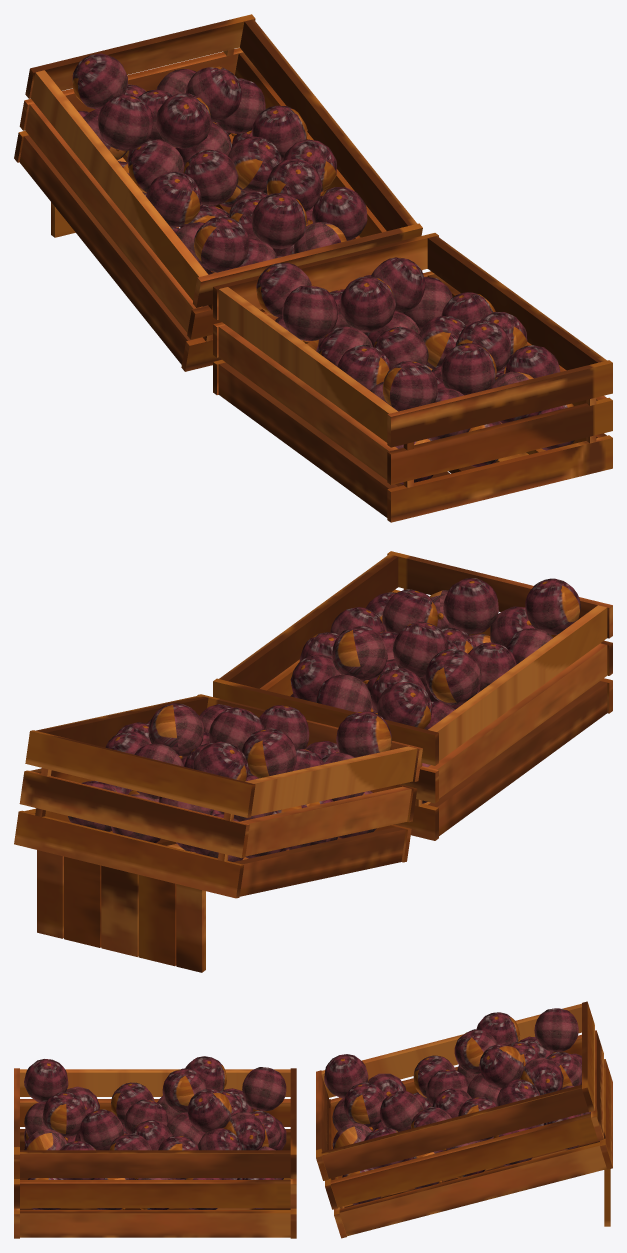
File: fruit crate_10.fbx
The picture shows the model from 3 angles, top to bottom: view 1: azimuth 30°, elevation 25°; view 2: azimuth 150°, elevation 25°; view 3: azimuth 270°, elevation 25°; orthographic projection. The views are drawn at different scales.
Parts seen in each view (by area): view 1: Cube.013, Cube.023, Plane.962, Plane.402, Plane.977, Plane.403, Plane.978, Plane.963, Plane.949, Plane.418, Plane.957, Plane.417 (+22 smaller); view 2: Cube.023, Cube.013, Cube.033, Plane.402, Plane.418, Plane.417, Plane.387, Plane.948, Plane.962, Plane.403, Plane.977, Plane.388 (+14 smaller); view 3: Cube.023, Cube.013, Plane.949, Plane.388, Plane.387, Plane.948, Plane.418, Plane.417, Plane.978, Plane.977, Plane.400, Plane.403 (+31 smaller).
Boxes of the visible parts, box(x1,y1,x2,y2) form: Cube.013: box(213, 233, 612, 522); Cube.023: box(14, 14, 422, 371); Plane.962: box(97, 94, 153, 151); Plane.402: box(282, 285, 337, 343); Plane.977: box(193, 216, 249, 272); Plane.403: box(340, 276, 395, 332); Plane.978: box(251, 193, 306, 249); Plane.963: box(156, 93, 211, 148); Plane.949: box(72, 53, 127, 108); Plane.418: box(441, 343, 496, 395); Plane.957: box(146, 171, 201, 227); Plane.417: box(382, 361, 438, 411); Cube.023: box(14, 694, 422, 898); Cube.013: box(213, 551, 612, 840); Cube.033: box(37, 850, 205, 972); Plane.402: box(425, 649, 481, 705); Plane.418: box(443, 578, 498, 634); Plane.417: box(525, 578, 580, 634); Plane.387: box(332, 626, 387, 683); Plane.948: box(148, 703, 203, 759); Plane.962: box(241, 728, 296, 778); Plane.403: box(392, 621, 448, 678); Plane.977: box(336, 711, 391, 757); Plane.388: box(376, 682, 432, 728); Cube.023: box(316, 1001, 612, 1238); Cube.013: box(14, 1068, 296, 1238); Plane.949: box(534, 1008, 578, 1052); Plane.388: box(242, 1067, 286, 1111); Plane.387: box(187, 1089, 231, 1132); Plane.948: box(479, 1043, 523, 1087); Plane.418: box(42, 1092, 86, 1137); Plane.417: box(24, 1059, 68, 1102); Plane.978: box(344, 1082, 385, 1127); Plane.977: box(324, 1054, 368, 1098); Plane.400: box(80, 1109, 123, 1150); Plane.403: box(162, 1068, 206, 1112).
Size of the model in its own units: 26.86 by 23.64 by 78.99.
